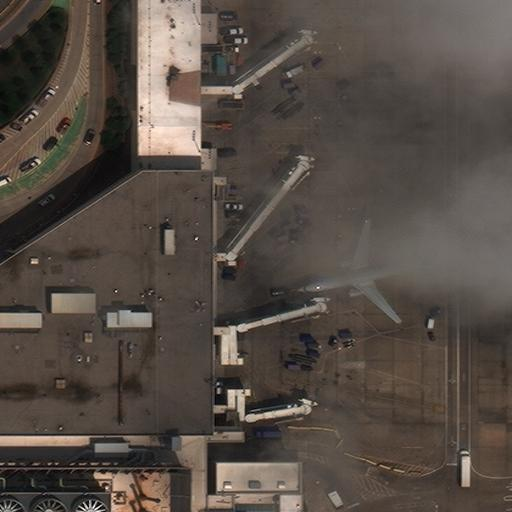Medium Civil Transport: (293, 221, 432, 323)
